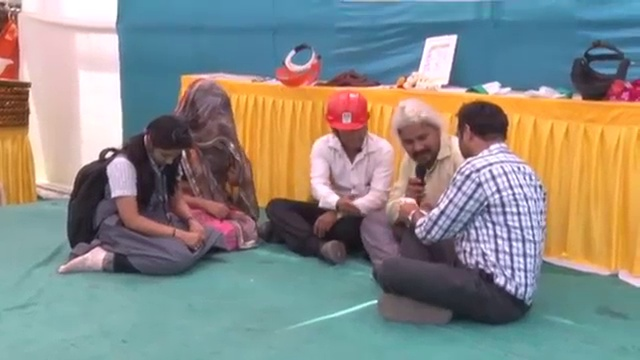helmet: (320, 89, 373, 135)
helmet_off: (451, 100, 512, 166), (393, 100, 448, 169), (177, 84, 237, 147), (137, 112, 190, 173)
helmet_on: (320, 94, 373, 152)
person: (378, 98, 550, 328), (58, 112, 218, 276), (262, 81, 404, 261), (166, 70, 262, 257), (361, 99, 466, 266)
